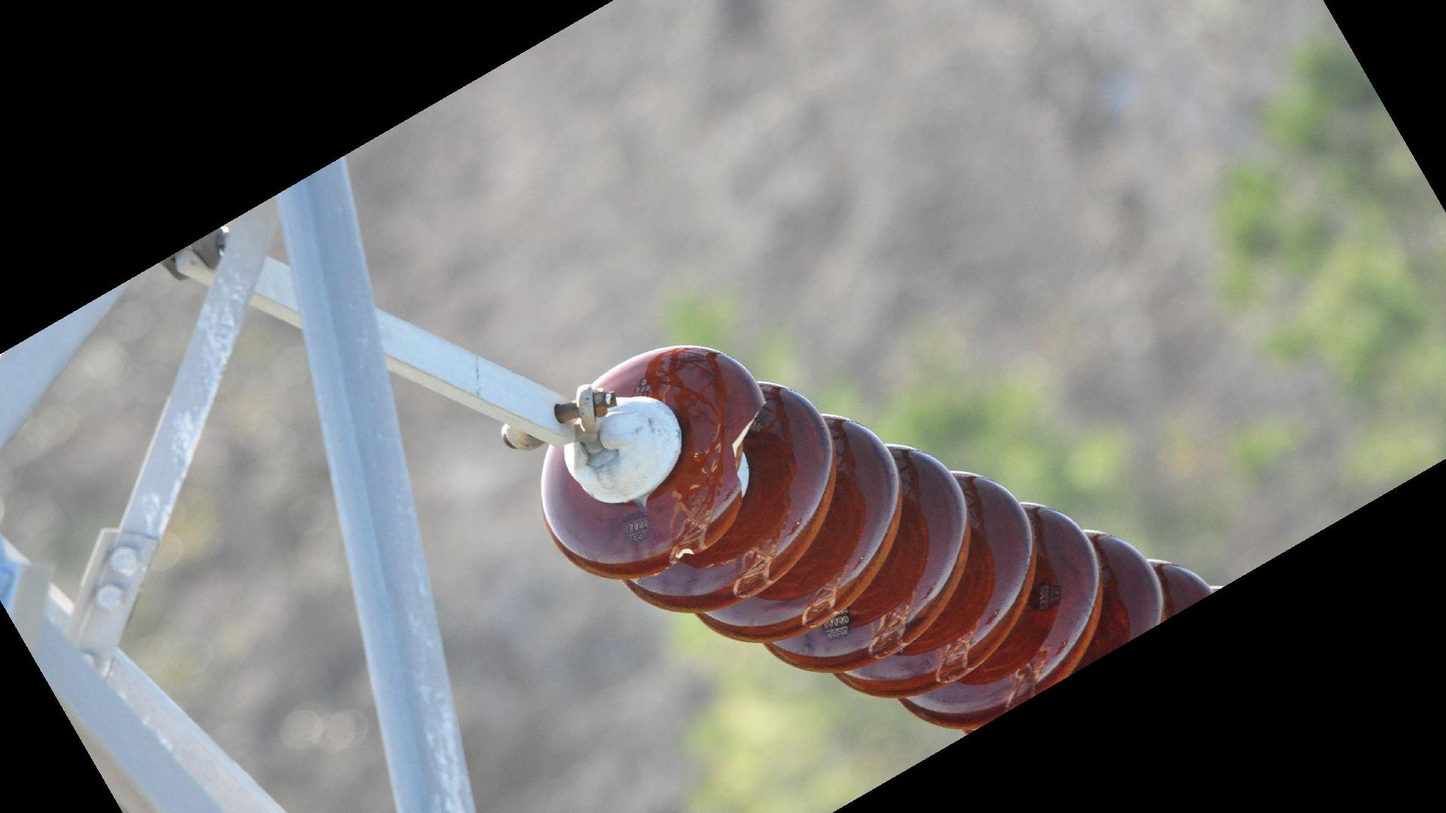insulator: (529, 338, 1231, 738)
insulator_breakage: (721, 393, 772, 516)
